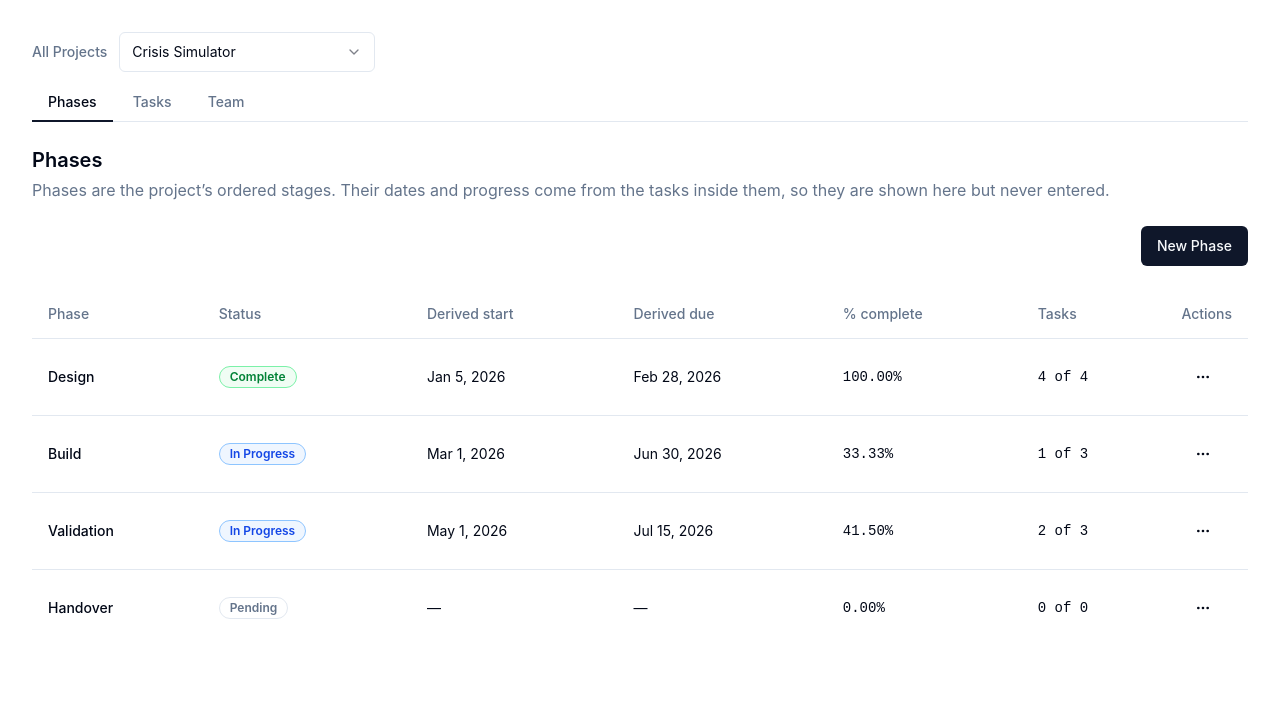
Phases screen › offers no date and no percent input in the edit dialog
Expected: the text "Build" is shown, top-left (32, 415), bottom-right (203, 492)
Click the button named "Phase actions for Build". click: (1203,454)
box: top-left (1181, 432), bottom-right (1225, 476)
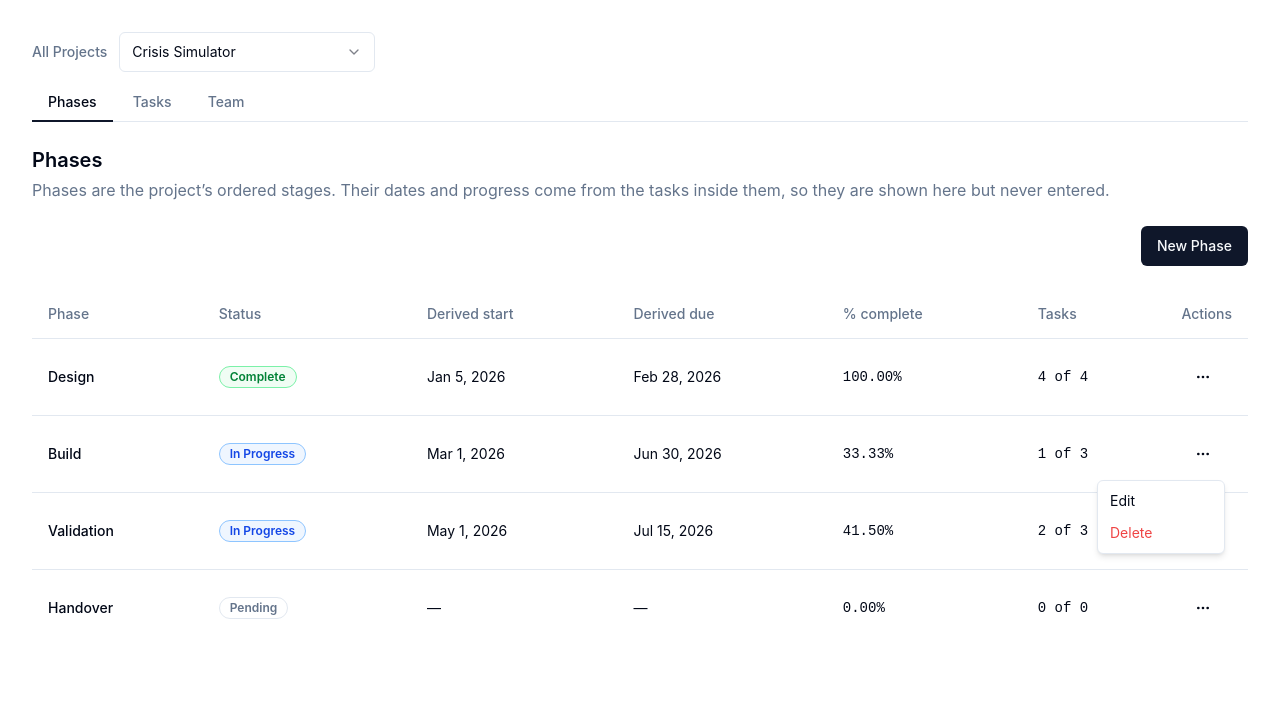
Click the menu item "Edit". click: (1122,500)
box: top-left (1110, 492), bottom-right (1135, 509)
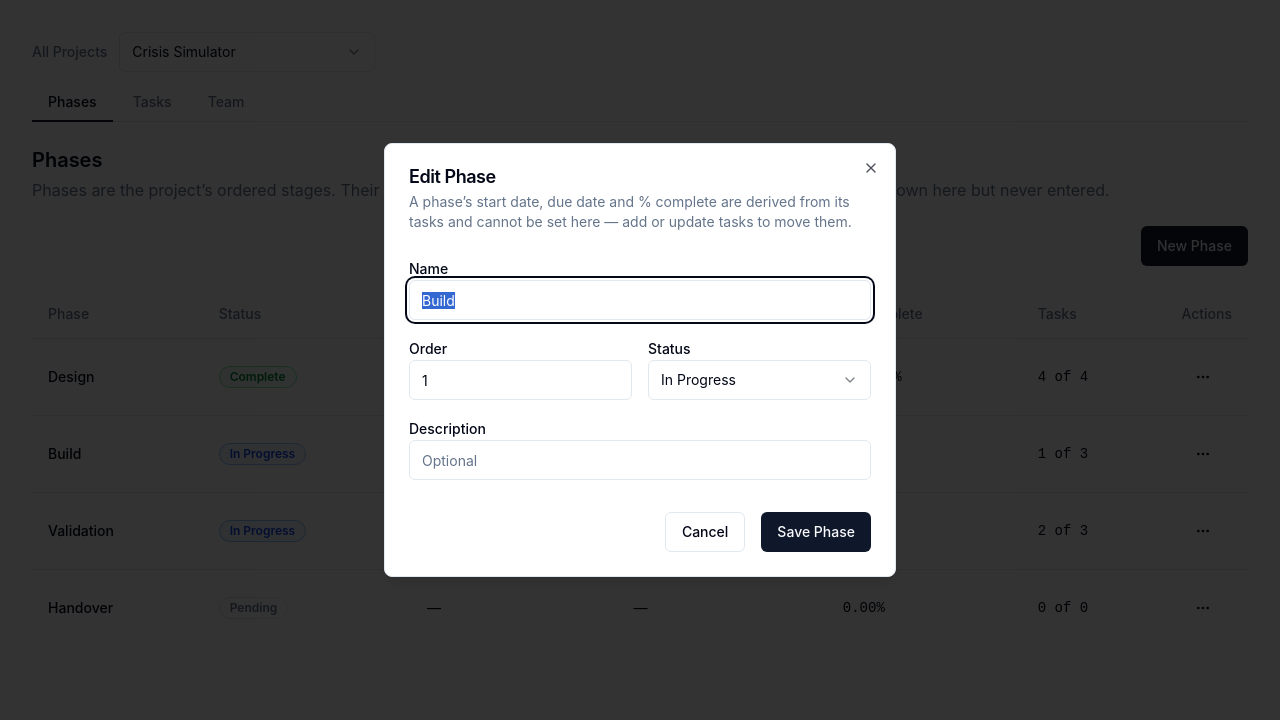
Expected: the heading "Edit Phase" is shown, top-left (409, 166), bottom-right (496, 187)
Expected: the field labelled "Name" holds "Build", top-left (409, 280), bottom-right (871, 320)
Expected: the number field labelled "Order" holds "1", top-left (409, 360), bottom-right (632, 400)
